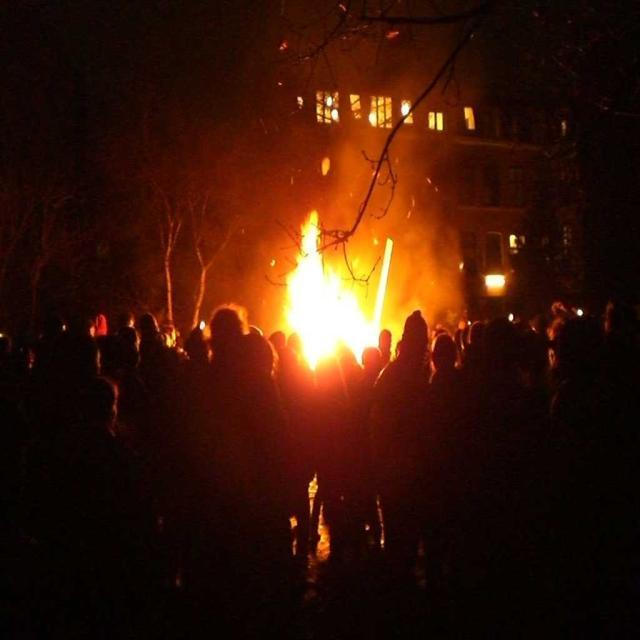Fire: (255, 205, 407, 367)
